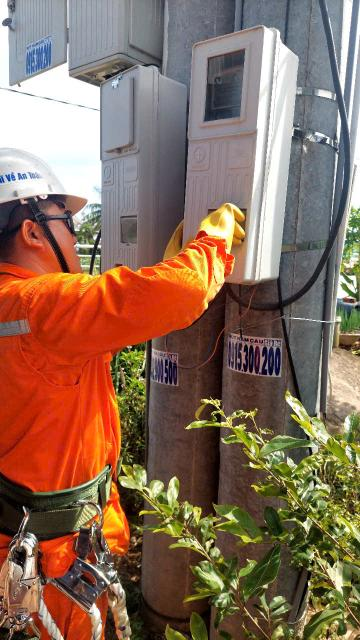gloves: (165, 198, 252, 267)
harness: (0, 448, 143, 554)
helmet: (0, 144, 118, 240)
